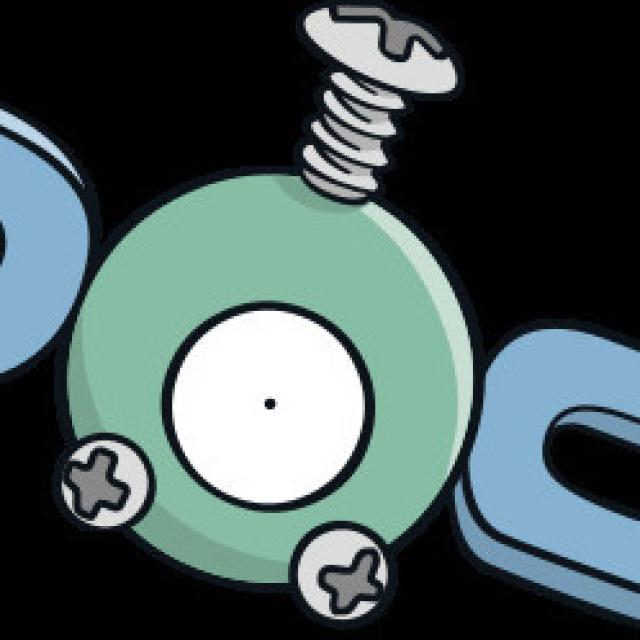Magnemite: (2, 11, 616, 627)
